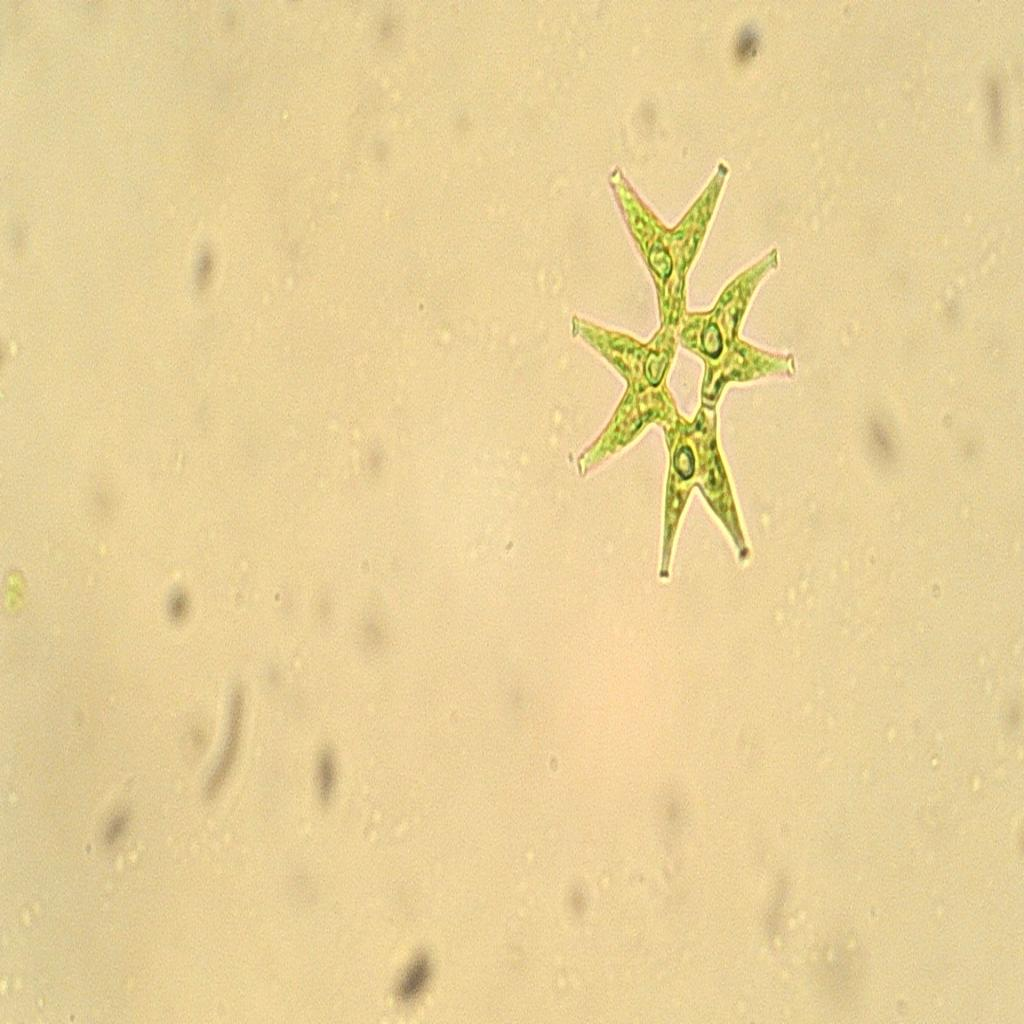Pediastrum_CT: (562, 132, 810, 600)
